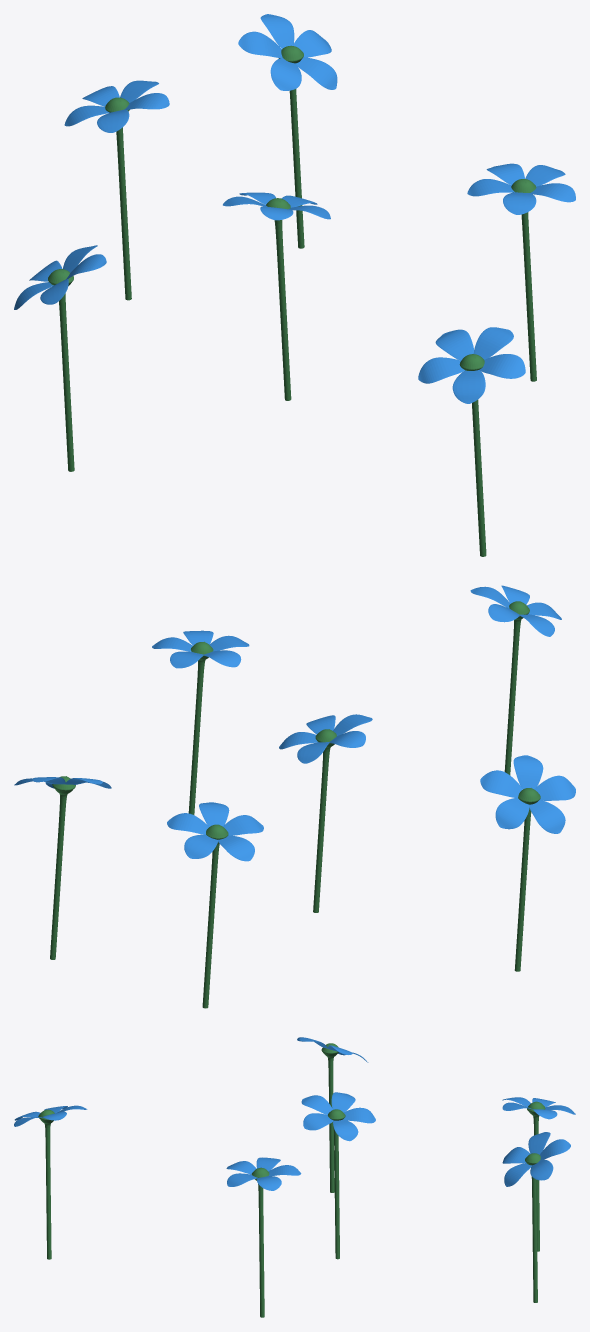
The model's file is kwiot.fbx.
3 views of the same model, one above another, from view 1: azimuth 30°, elevation 25°; view 2: azimuth 150°, elevation 25°; view 3: azimuth 270°, elevation 25° (orthographic). The views are drawn at different scales.
Visible parts, largest first — view 1: Cube.003; view 2: Cube.003; view 3: Cube.003.
Boxes of the visible parts, <box> form: Cube.003: <box>14,14,575,556</box>; Cube.003: <box>14,585,575,1008</box>; Cube.003: <box>14,1037,575,1317</box>.
Bounding box in the file's own units: 2.07 × 0.9751 × 2.84.
